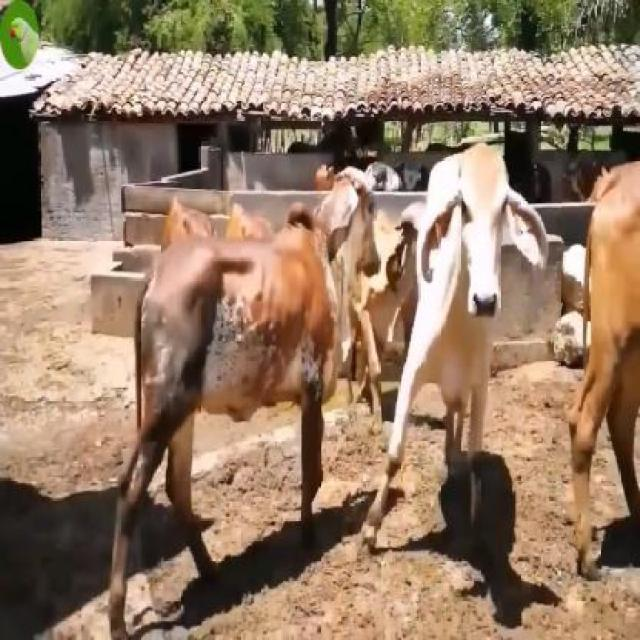Cow: (365, 140, 549, 592)
